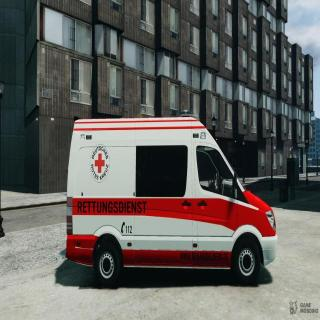Ambulance: (61, 112, 281, 293)
